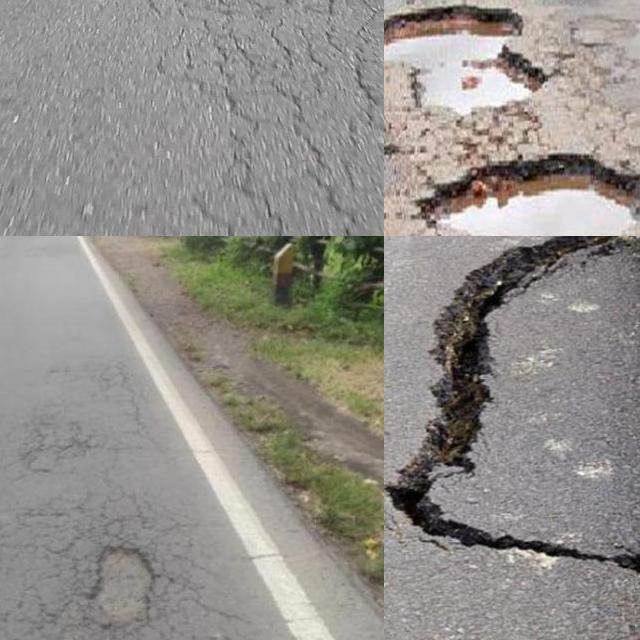Lubang: (432, 151, 640, 236), (384, 4, 539, 115), (87, 547, 155, 629)
Pinggir: (384, 236, 640, 596)
Retak Buaya: (171, 0, 384, 236)
